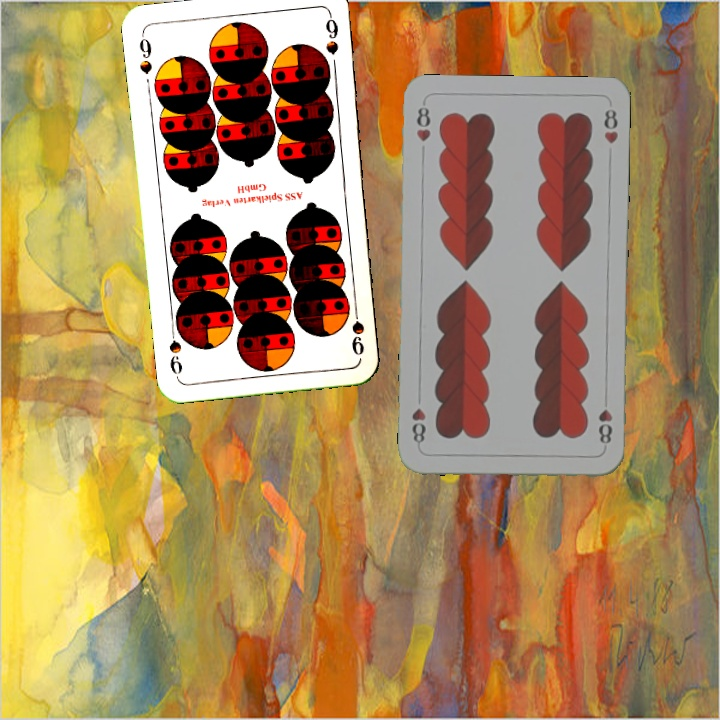H8: (412, 99, 433, 144), (594, 405, 615, 447)
S9: (347, 299, 367, 358), (135, 30, 155, 77)
